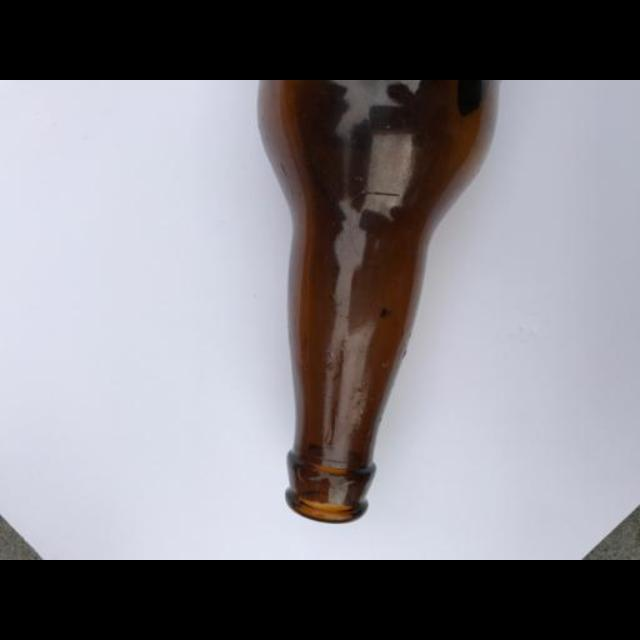garrafa de vidro: (257, 80, 497, 524)
